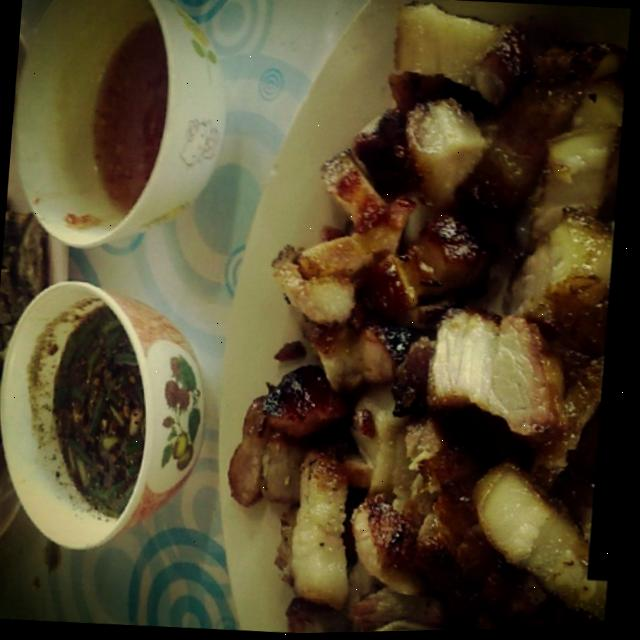猪肉菜式: (198, 0, 640, 636)
